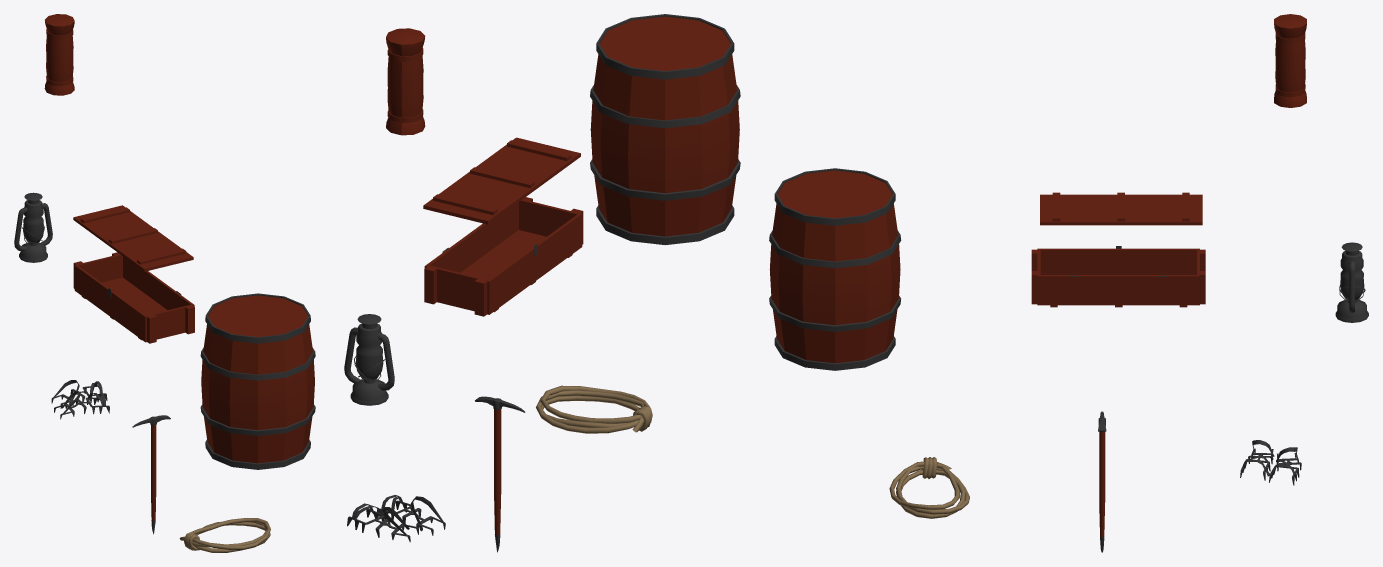
File: Duplicates.fbx
3 views of the same model, side by side, from view 1: azimuth 30°, elevation 25°; view 2: azimuth 150°, elevation 25°; view 3: azimuth 270°, elevation 25° (orthographic). The views are drawn at different scales.
Visible parts, largest first — view 1: Barrel_Shack, Box_Base4, Box_Lid4, Bedroll, Lantern_Shack, Rope, Crampons, Pick; view 2: Barrel_Shack, Box_Base4, Box_Lid4, Bedroll, Rope, Lantern_Shack, Crampons, Pick; view 3: Barrel_Shack, Box_Base4, Box_Lid4, Bedroll, Rope, Lantern_Shack, Crampons, Pick.
Part boxes in pixels (x1=…): Barrel_Shack: x1=200, y1=293, x2=315, y2=469; Box_Base4: x1=73, y1=252, x2=194, y2=343; Box_Lid4: x1=73, y1=205, x2=193, y2=271; Bedroll: x1=44, y1=14, x2=74, y2=95; Lantern_Shack: x1=14, y1=192, x2=52, y2=262; Rope: x1=179, y1=518, x2=270, y2=552; Crampons: x1=51, y1=380, x2=109, y2=419; Pick: x1=132, y1=415, x2=170, y2=534; Barrel_Shack: x1=590, y1=14, x2=740, y2=245; Box_Base4: x1=424, y1=197, x2=583, y2=316; Box_Lid4: x1=423, y1=137, x2=580, y2=224; Bedroll: x1=386, y1=28, x2=425, y2=135; Rope: x1=536, y1=385, x2=652, y2=433; Lantern_Shack: x1=344, y1=314, x2=394, y2=405; Crampons: x1=347, y1=495, x2=445, y2=542; Pick: x1=475, y1=396, x2=525, y2=552; Barrel_Shack: x1=769, y1=168, x2=901, y2=370; Box_Base4: x1=1031, y1=246, x2=1205, y2=307; Box_Lid4: x1=1040, y1=192, x2=1202, y2=225; Bedroll: x1=1274, y1=14, x2=1306, y2=107; Rope: x1=889, y1=457, x2=969, y2=518; Lantern_Shack: x1=1335, y1=242, x2=1368, y2=322; Crampons: x1=1240, y1=440, x2=1301, y2=485; Pick: x1=1098, y1=411, x2=1106, y2=552.
Size of the model in its own units: 0.9359 by 4.02 by 4.14.
